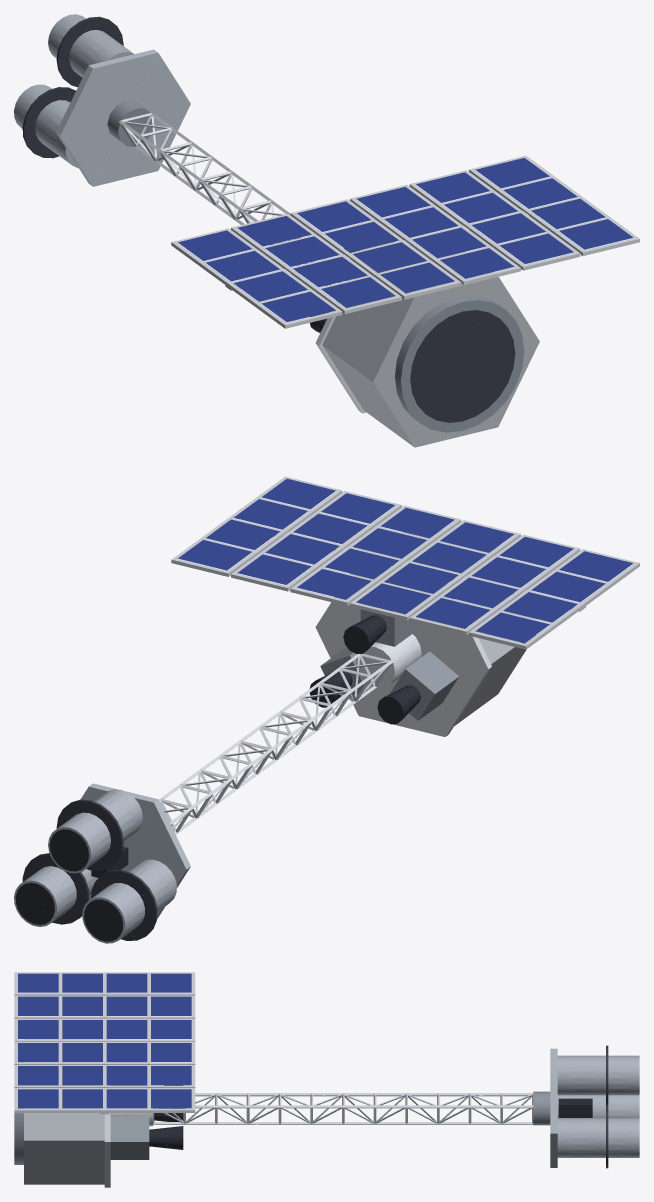
File: ixpe.glb
3 renders of one model, top to bottom at view 1: azimuth 30°, elevation 25°; view 2: azimuth 150°, elevation 25°; view 3: azimuth 270°, elevation 25°, orthographic. The views are drawn at different scales.
Visible parts, largest first — view 1: body, solar-panel, foil; view 2: body, solar-panel, foil; view 3: body, solar-panel, foil.
Boxes of the visible parts, bbox=[...] form: body: bbox=[14, 14, 639, 432]; solar-panel: bbox=[178, 158, 633, 322]; foil: bbox=[322, 251, 539, 447]; body: bbox=[14, 476, 639, 943]; solar-panel: bbox=[15, 478, 633, 941]; foil: bbox=[402, 529, 535, 725]; body: bbox=[14, 972, 639, 1187]; solar-panel: bbox=[18, 973, 191, 1108]; foil: bbox=[24, 1039, 104, 1184].
Bounding box in the file's own units: 2.7 × 1.19 × 5.18.
